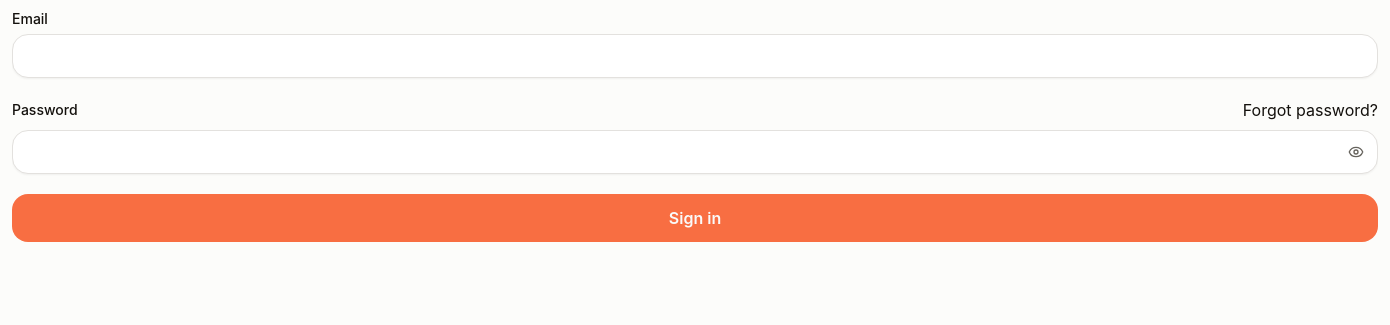
Test case: LoginForm › shows the invalid credentials banner on 401
Type "x@b.co" into the field with test id "login-email" at (695, 56), box [12, 34, 1378, 78]
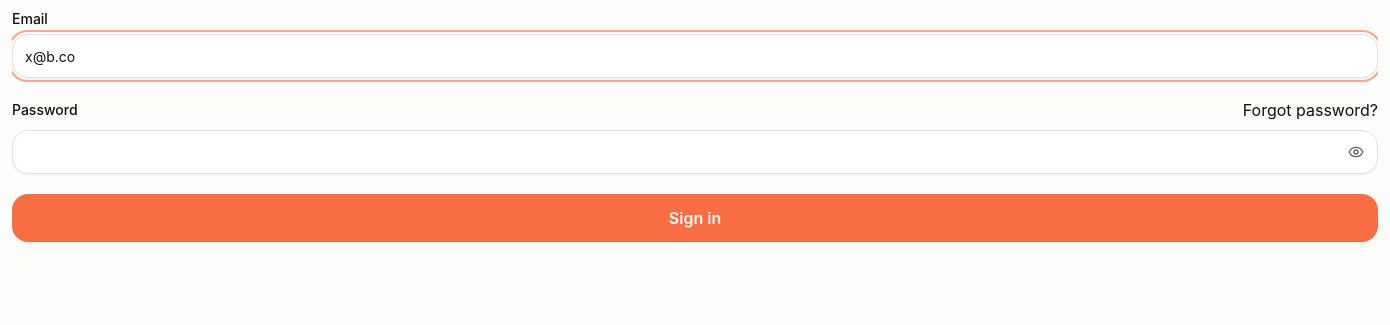
Type "secret123" into the password field with test id "login-password" at (695, 152), box [12, 130, 1378, 174]
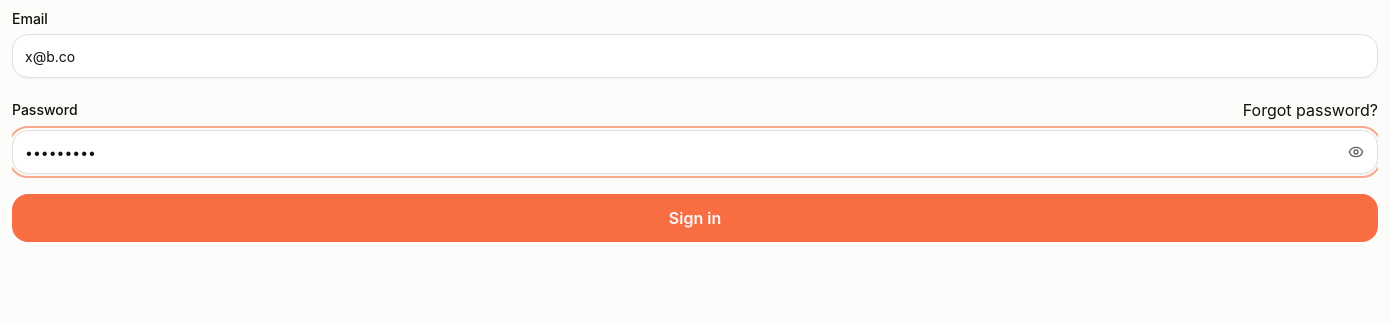
Click the button with test id "login-submit" at (695, 218), box [12, 194, 1378, 242]
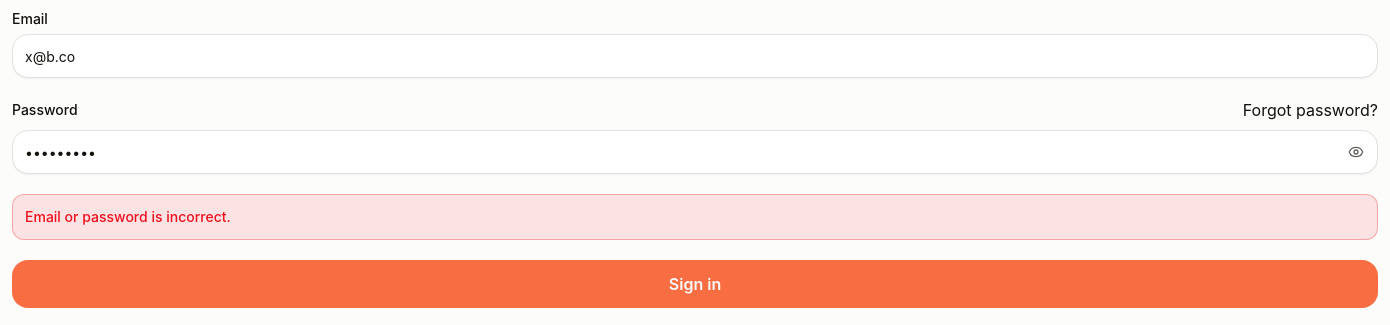
Expected: the message with test id "login-server-error" reads "Email or password is incorrect.", [25, 208, 231, 225]
